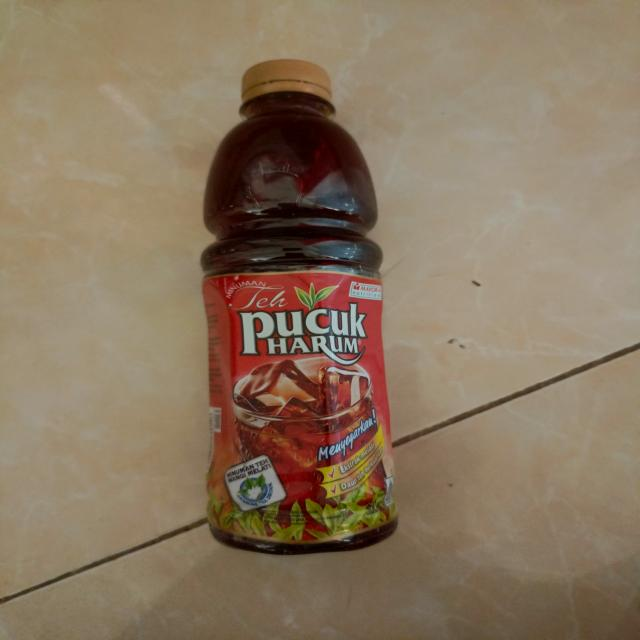teh-pucuk: (198, 58, 396, 554)
